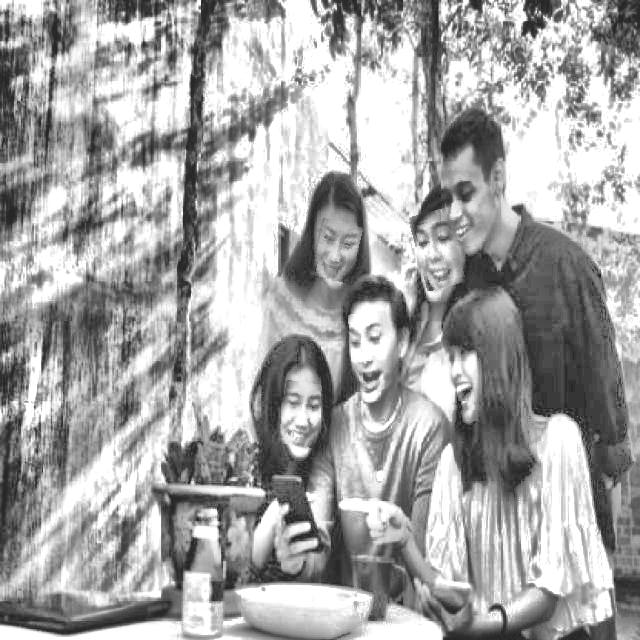happy: (412, 209, 462, 290), (350, 312, 392, 392), (440, 171, 482, 247), (312, 220, 360, 282), (280, 381, 320, 447), (448, 342, 479, 410)
